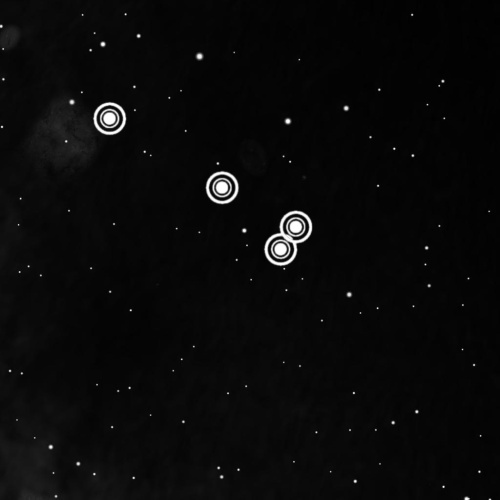sagitta: (88, 94, 320, 271)
